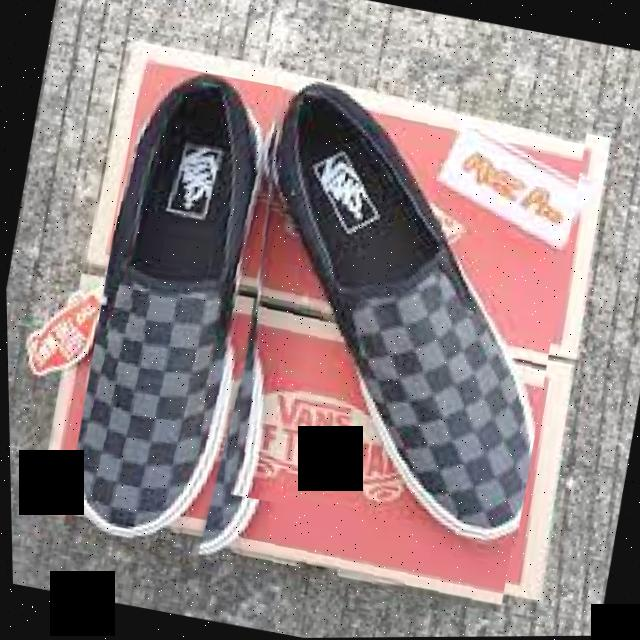shoe: (45, 47, 591, 617), (202, 62, 596, 550), (49, 60, 319, 575)
